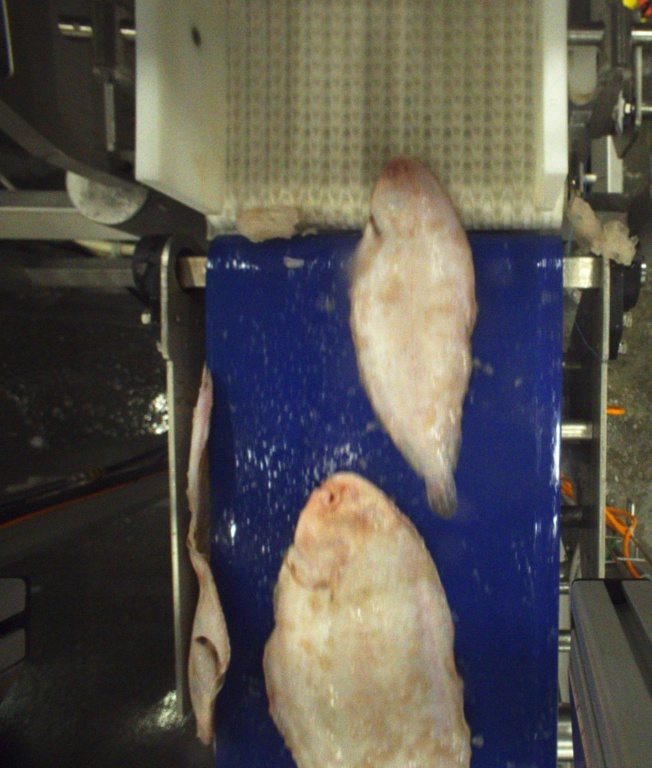SOL: (350, 155, 474, 516)
